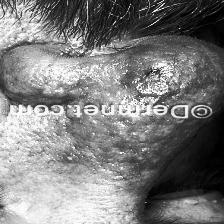Non-Cancerous Skin Condition: (0, 45, 222, 102), (2, 119, 192, 184)
